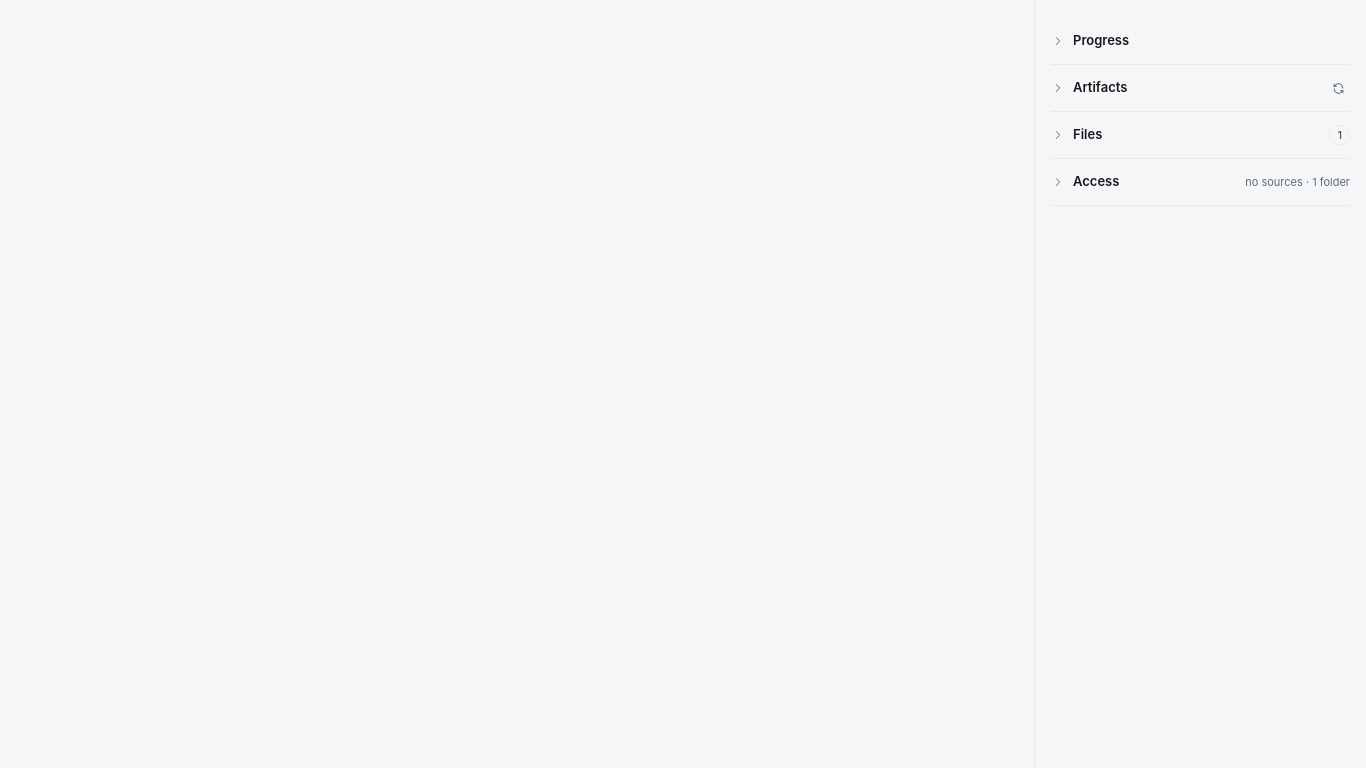
Scenario: RightRail preview notification › opens Files roots with the files origin instead of artifact scope
Click the button with test id "rail-toggle-files" at (1058, 135), box [1051,125,1350,145]
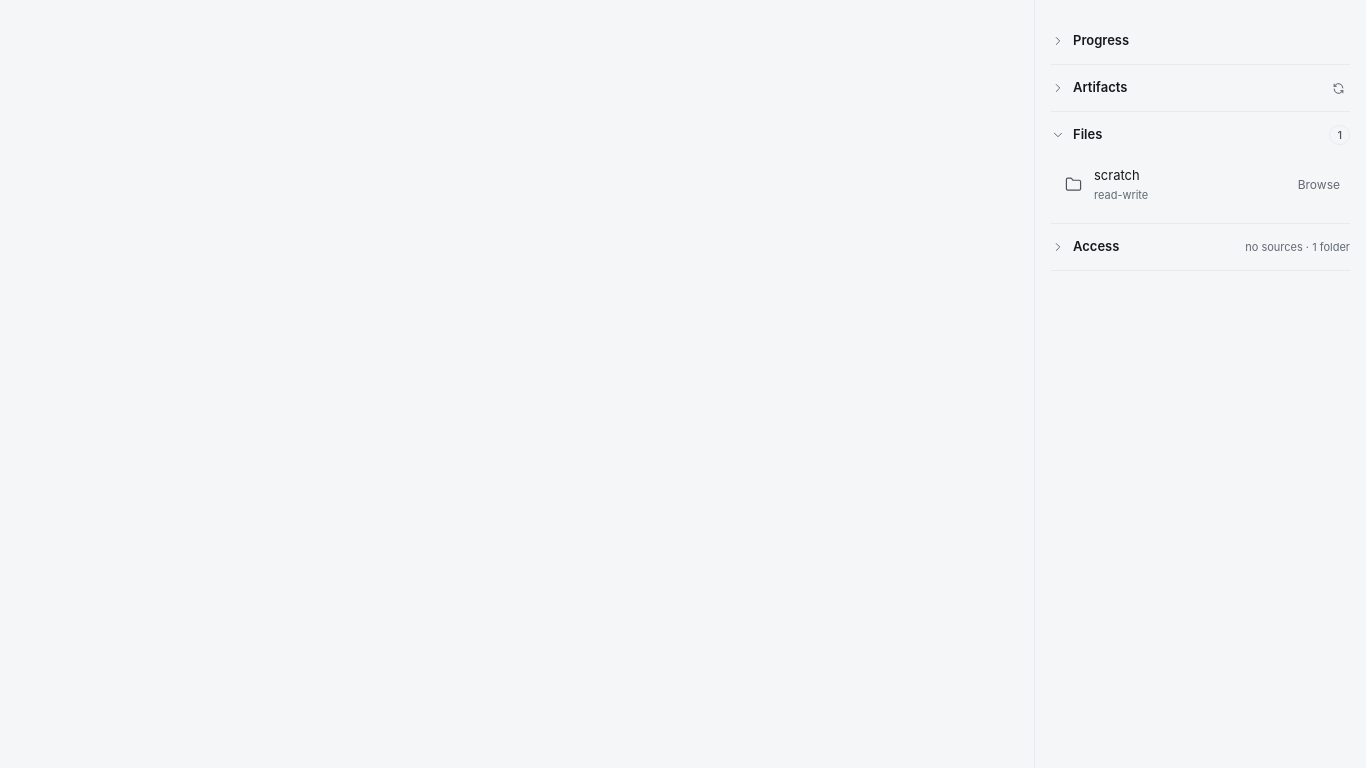
Click the button with test id "files-root-row" at (1117, 175), box [1051,157,1350,212]
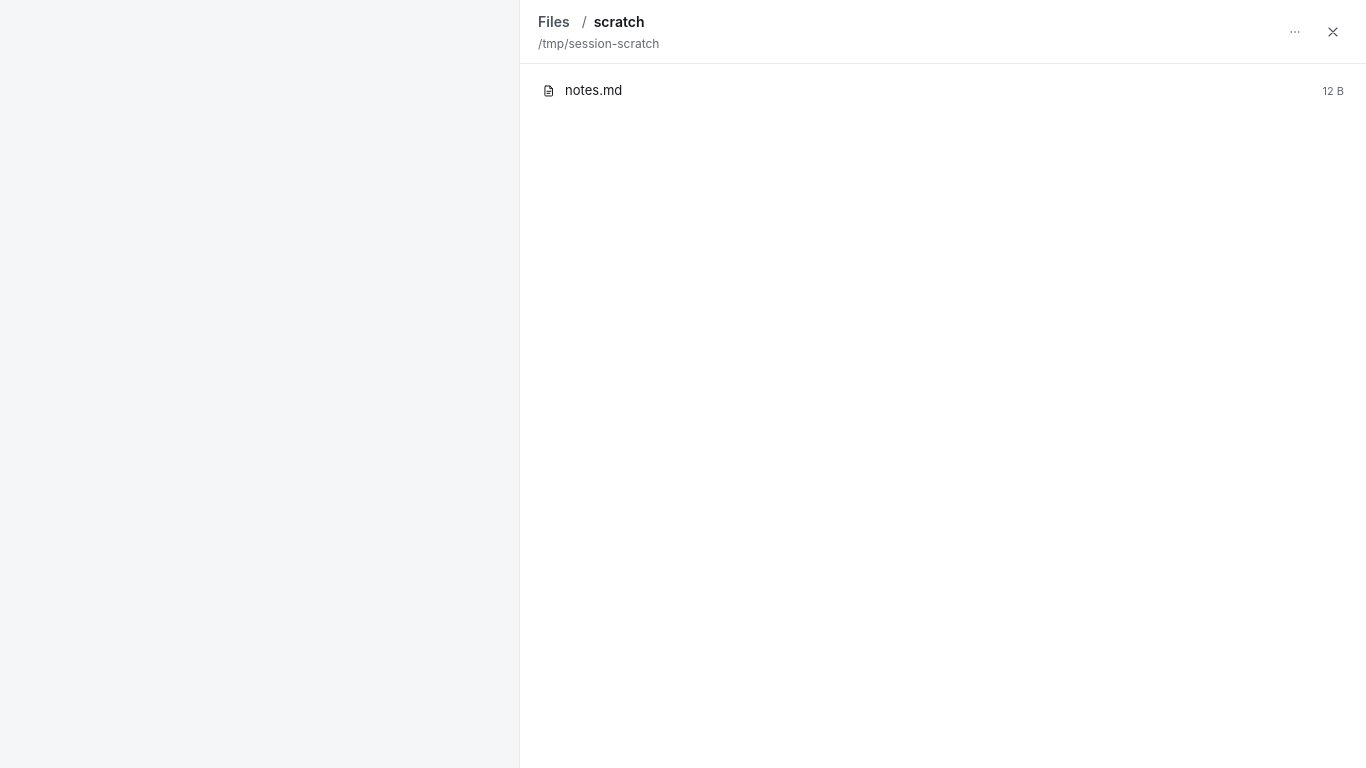
Now the element with test id "artifact-folder" is shown, box [520,64,1365,118]
